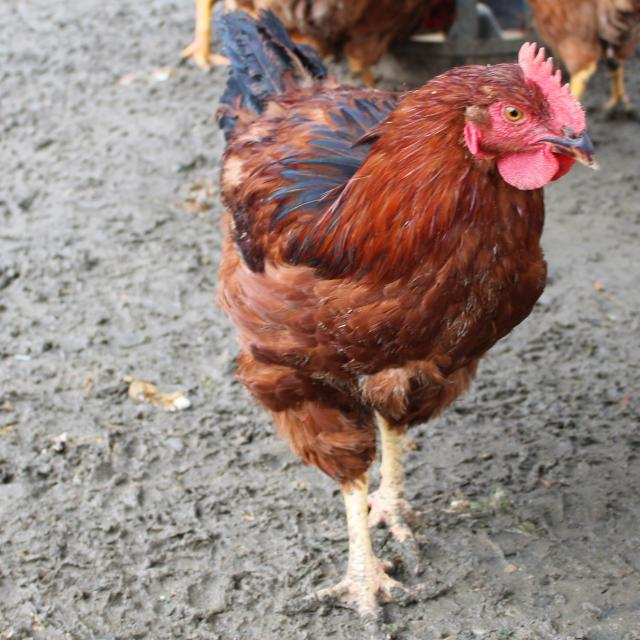cook: (210, 11, 597, 622)
